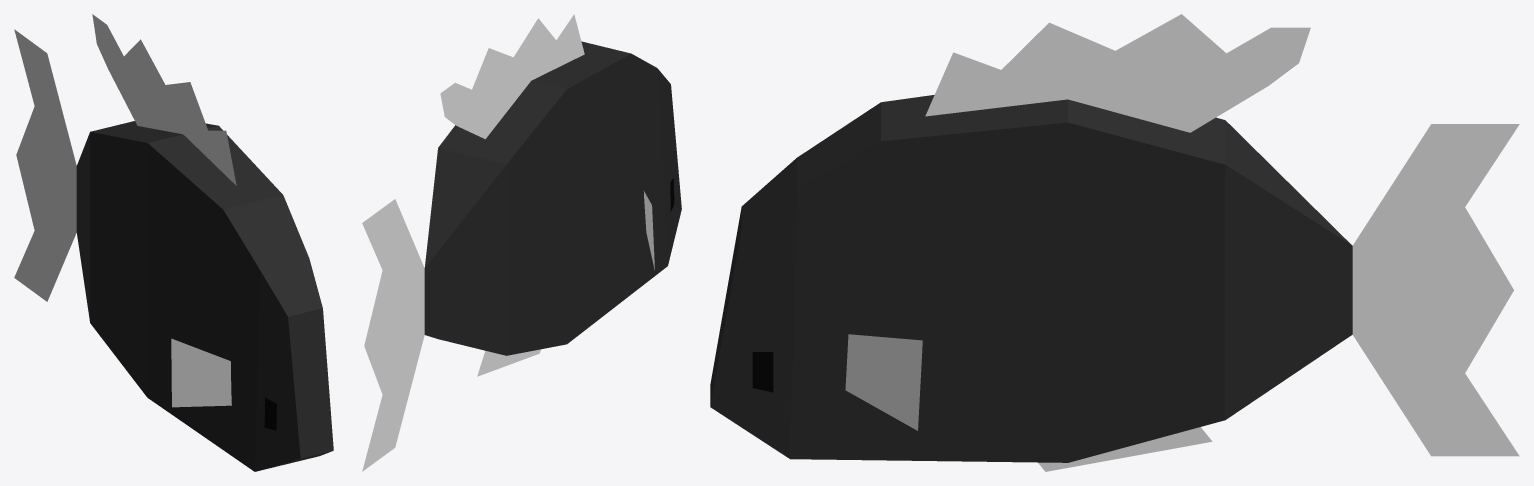
File: 07fish.fbx
The picture shows the model from 3 angles, left to right: view 1: azimuth 30°, elevation 25°; view 2: azimuth 150°, elevation 25°; view 3: azimuth 270°, elevation 25°; orthographic projection. The views are drawn at different scales.
Visible parts, largest first — view 1: Tropical Fish 07; view 2: Tropical Fish 07; view 3: Tropical Fish 07.
Boxes of the visible parts, box(x1,y1,x2,y2) form: Tropical Fish 07: box(14, 14, 333, 471); Tropical Fish 07: box(362, 14, 681, 471); Tropical Fish 07: box(710, 14, 1519, 471).
Size of the model in its own units: 65.99 by 160 by 257.
